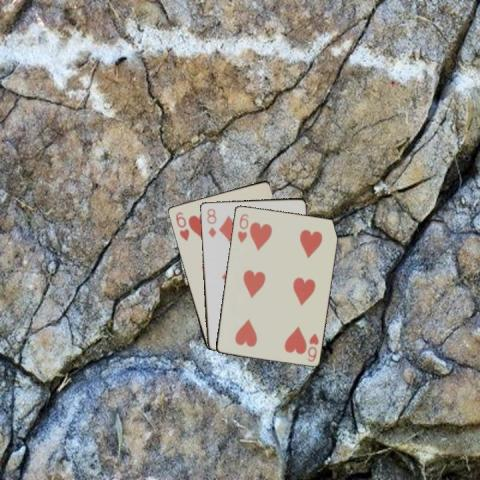6h: (172, 209, 191, 242), (304, 330, 320, 363), (235, 211, 250, 244)
8d: (204, 205, 217, 239)
